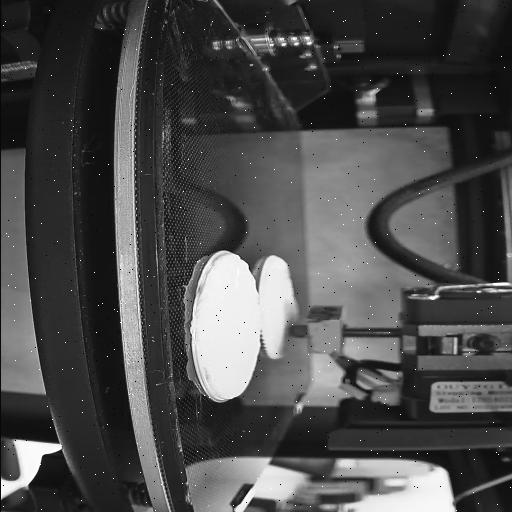over_extrusion: (208, 251, 240, 264)
